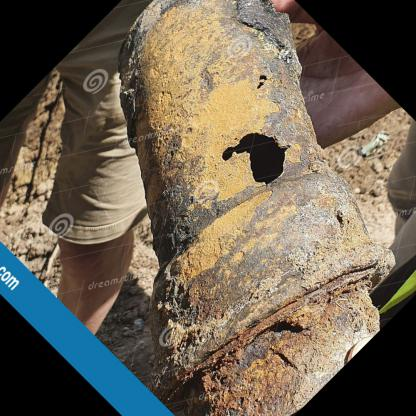burst: (217, 128, 316, 197)
